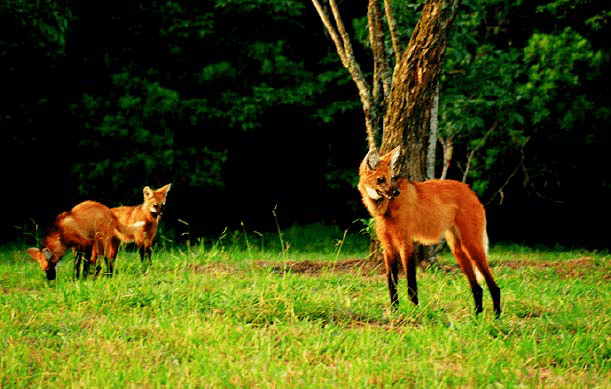LoboGuara: (350, 146, 514, 323), (28, 197, 119, 275), (107, 176, 176, 270)
